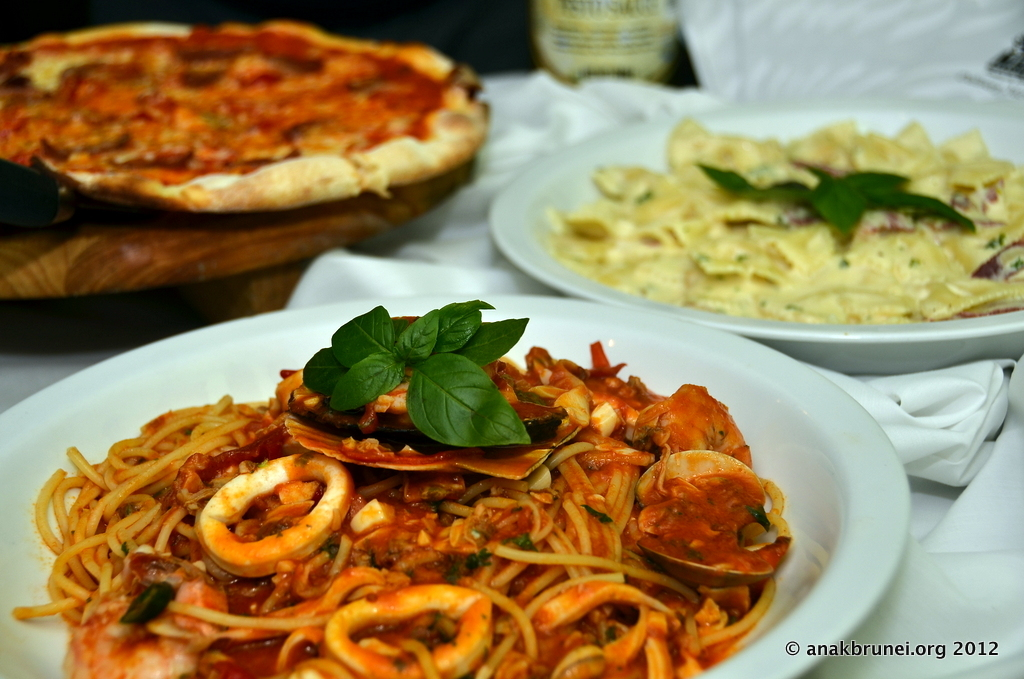Pizza: (0, 14, 517, 233)
